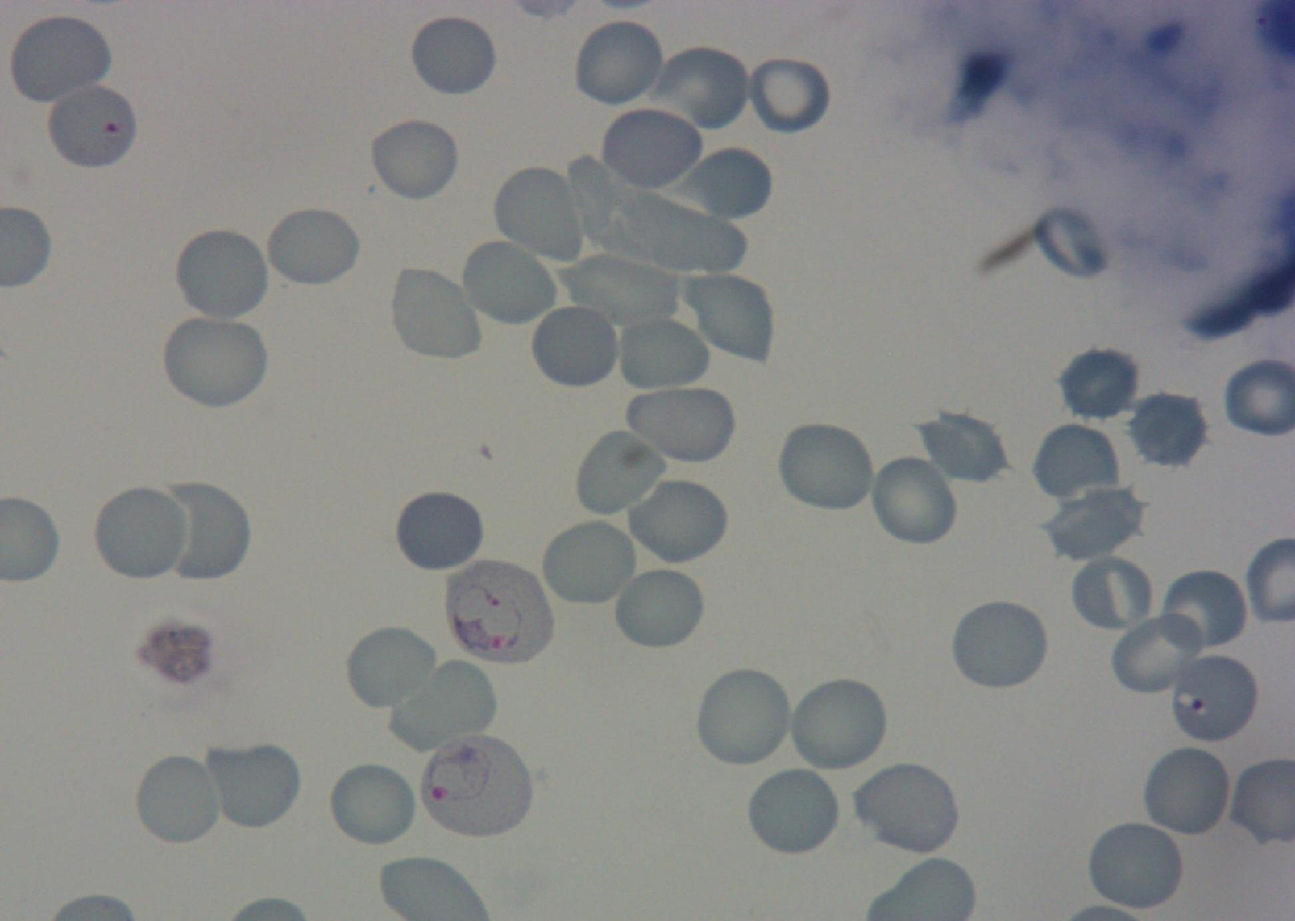Infected: (420, 732, 536, 842), (444, 557, 552, 664)
Uninfected: (389, 658, 500, 752), (854, 761, 961, 858), (160, 314, 268, 408), (785, 678, 889, 774), (456, 235, 560, 330), (92, 483, 191, 582), (7, 15, 113, 105), (173, 226, 272, 322), (1084, 820, 1186, 913), (775, 420, 876, 513), (626, 476, 731, 565), (387, 266, 483, 363), (951, 598, 1049, 693), (159, 483, 252, 583), (492, 166, 588, 262), (539, 517, 640, 608), (700, 667, 791, 767), (627, 381, 735, 465), (655, 43, 753, 134), (205, 741, 302, 832), (572, 428, 667, 520), (745, 766, 841, 857), (867, 455, 959, 549), (1140, 745, 1232, 839), (683, 270, 775, 363), (630, 199, 745, 273), (133, 753, 224, 846), (572, 19, 665, 109), (611, 566, 707, 653), (345, 625, 441, 711), (366, 116, 460, 203), (529, 303, 622, 390), (264, 206, 362, 288), (1109, 613, 1204, 697), (602, 111, 699, 192), (1159, 573, 1250, 659), (614, 314, 713, 393), (394, 491, 486, 574), (743, 53, 832, 138), (326, 761, 414, 846), (1047, 486, 1144, 563), (1030, 421, 1121, 503), (1069, 553, 1158, 635), (681, 147, 775, 222), (570, 254, 680, 318), (919, 409, 1009, 486), (1029, 202, 1114, 282), (1124, 391, 1208, 470), (1058, 346, 1140, 423), (414, 19, 493, 93)
